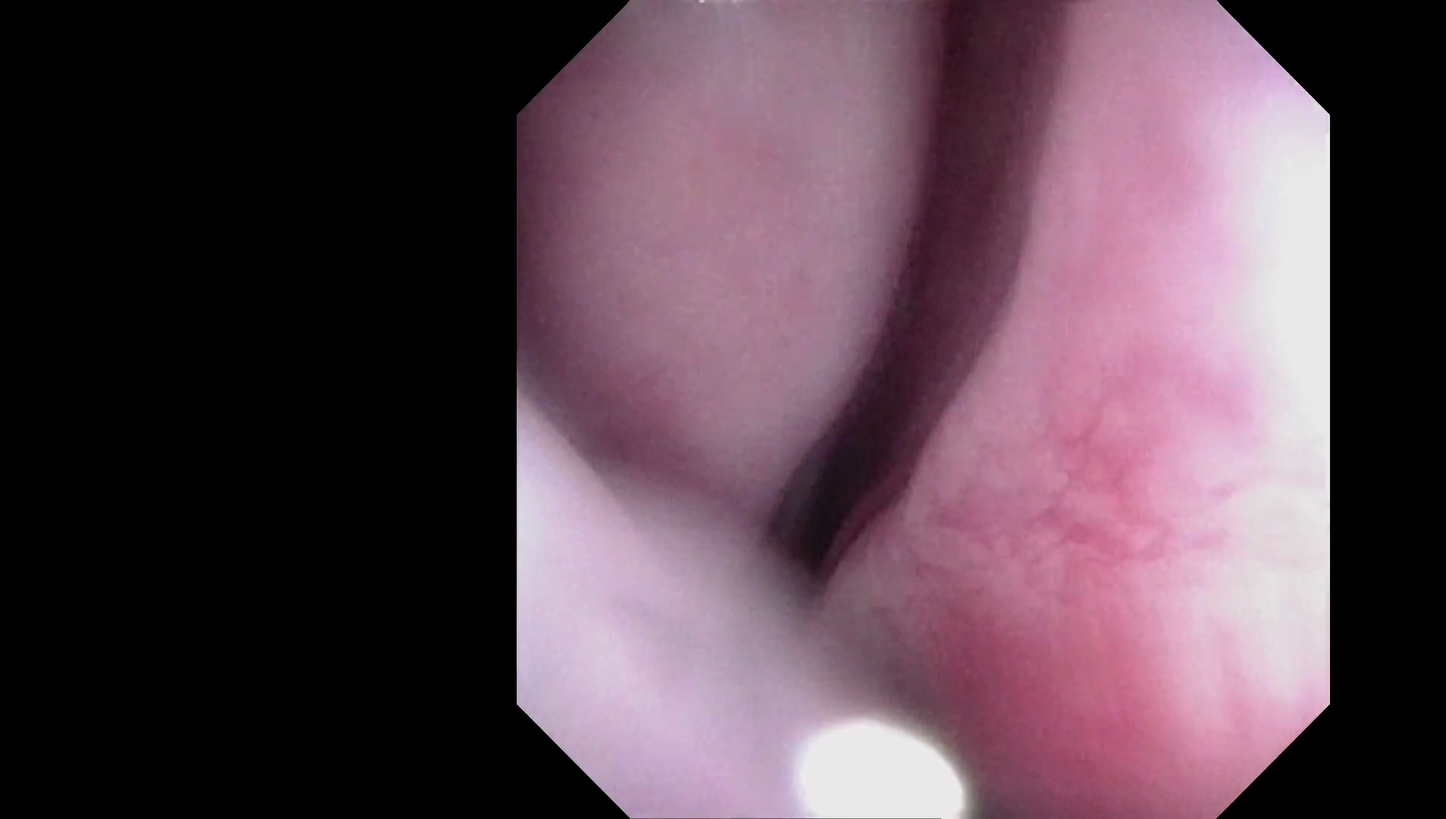close_wall: (959, 120, 1327, 696)
next: (705, 380, 950, 625)
